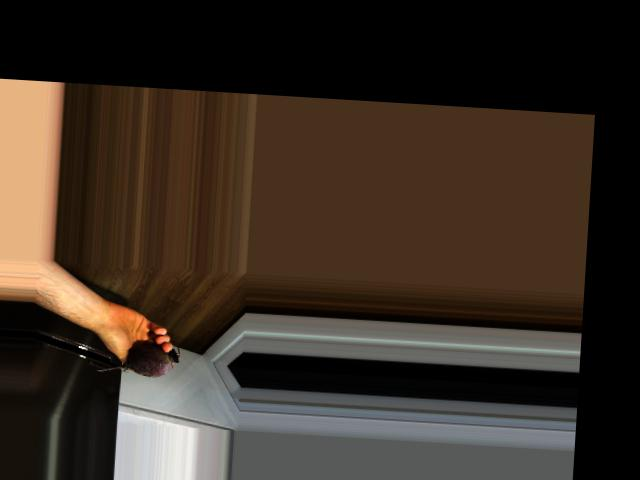beet: (97, 341, 181, 378)
